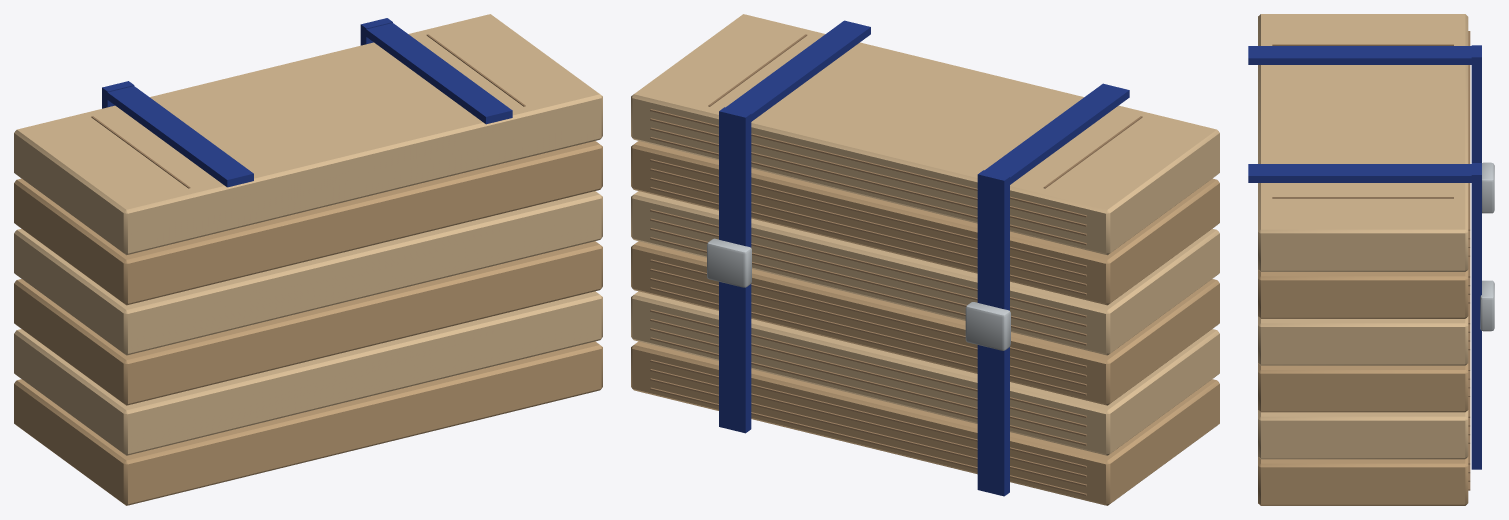
Rendered from cribbing_lower.glb.
The picture shows the model from 3 angles, left to right: view 1: azimuth 30°, elevation 25°; view 2: azimuth 150°, elevation 25°; view 3: azimuth 270°, elevation 25°; orthographic projection. The views are drawn at different scales.
Visible parts, largest first — view 1: cribbing_lower; view 2: cribbing_lower; view 3: cribbing_lower.
Part boxes in pixels (box(x1,y1,x2,y2)): cribbing_lower: box(14, 14, 602, 505); cribbing_lower: box(631, 14, 1219, 505); cribbing_lower: box(1248, 14, 1494, 505).
Bounding box in the file's own units: 0.4537 × 0.2857 × 0.2163.
